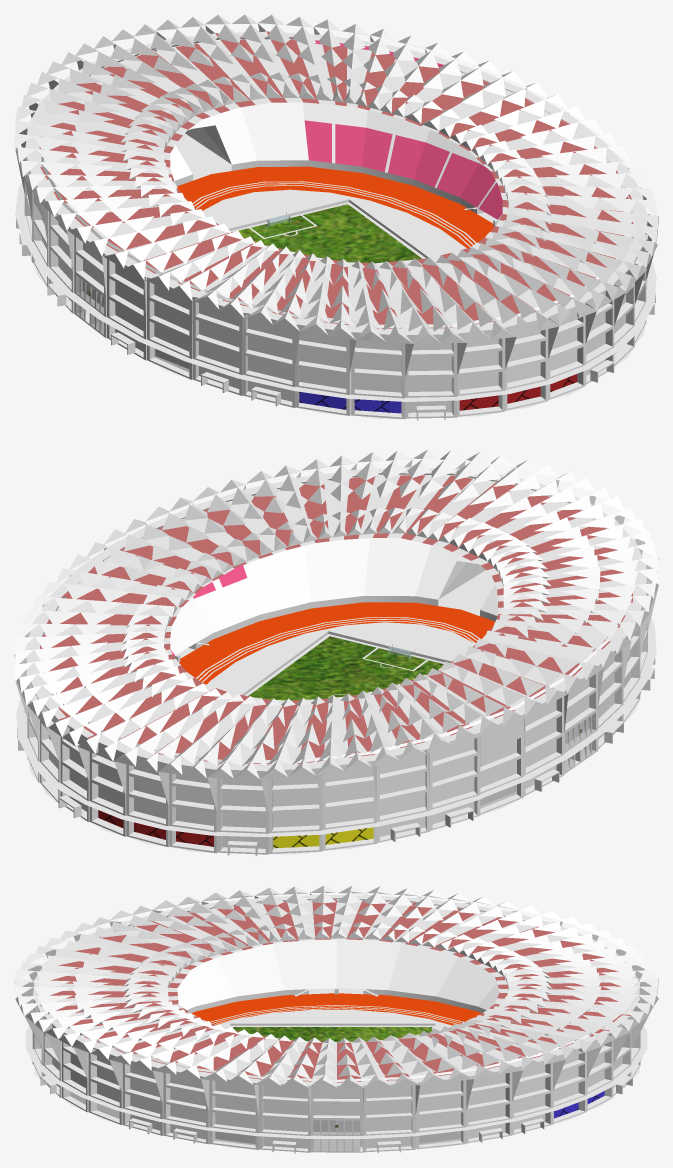
Rendered from stadion_gelora_bung_karno.glb.
3 views of the same model, one above another, from view 1: azimuth 30°, elevation 25°; view 2: azimuth 150°, elevation 25°; view 3: azimuth 270°, elevation 25° (orthographic). The views are drawn at different scales.
Parts seen in each view (by area): view 1: Object_12, Object_13, Object_2, Object_6, Object_3, Object_5, Object_7, Object_8, Object_10; view 2: Object_12, Object_13, Object_2, Object_6, Object_5, Object_8, Object_9, Object_10; view 3: Object_12, Object_13, Object_2, Object_6, Object_8, Object_5.
Part boxes in pixels (x1=…): Object_12: x1=15, y1=31, x2=658, y2=419; Object_13: x1=14, y1=14, x2=658, y2=420; Object_2: x1=39, y1=31, x2=633, y2=328; Object_6: x1=177, y1=166, x2=493, y2=248; Object_3: x1=295, y1=40, x2=564, y2=219; Object_5: x1=238, y1=204, x2=421, y2=263; Object_7: x1=299, y1=392, x2=401, y2=413; Object_8: x1=76, y1=275, x2=616, y2=371; Object_10: x1=459, y1=374, x2=577, y2=410; Object_12: x1=14, y1=467, x2=658, y2=854; Object_13: x1=14, y1=449, x2=658, y2=856; Object_2: x1=40, y1=475, x2=632, y2=763; Object_6: x1=179, y1=602, x2=494, y2=684; Object_5: x1=248, y1=636, x2=443, y2=700; Object_8: x1=480, y1=712, x2=595, y2=808; Object_9: x1=273, y1=827, x2=373, y2=848; Object_10: x1=98, y1=810, x2=213, y2=846; Object_12: x1=15, y1=895, x2=658, y2=1152; Object_13: x1=14, y1=885, x2=658, y2=1153; Object_2: x1=50, y1=899, x2=630, y2=1082; Object_6: x1=191, y1=993, x2=481, y2=1025; Object_8: x1=70, y1=1092, x2=460, y2=1151; Object_5: x1=233, y1=1027, x2=432, y2=1041.
Size of the model in its own units: 176 by 30.93 by 243.
Materials: 14 (6 with a texture image).
